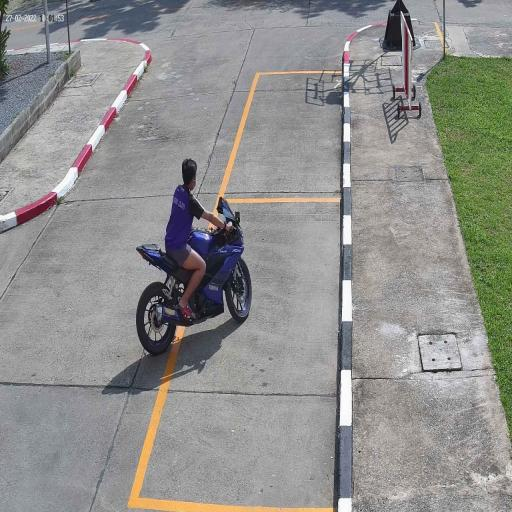motorcycle: (135, 239, 254, 357)
